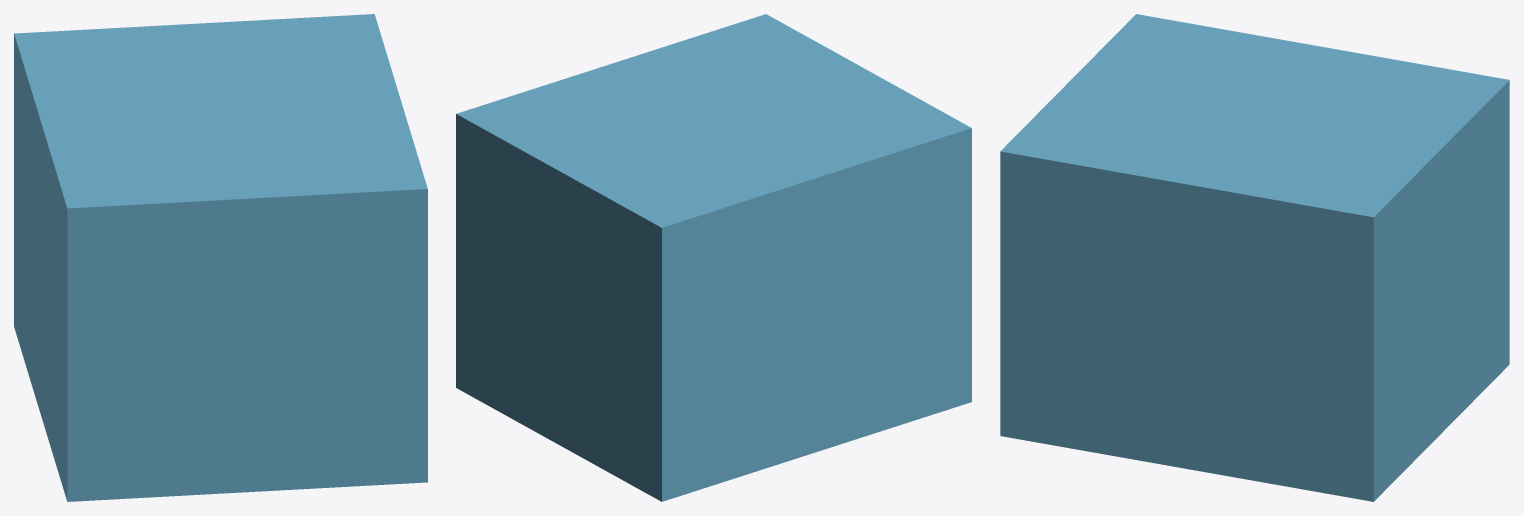
Rendered from bldg_fa634ac3-5c05-4063-8d61-3a76ba0088fc.obj.
3 renders of one model, left to right at view 1: azimuth 30°, elevation 25°; view 2: azimuth 150°, elevation 25°; view 3: azimuth 270°, elevation 25°, orthographic. The views are drawn at different scales.
Size of the model in its own units: 14.34 by 9.36 by 15.18.
